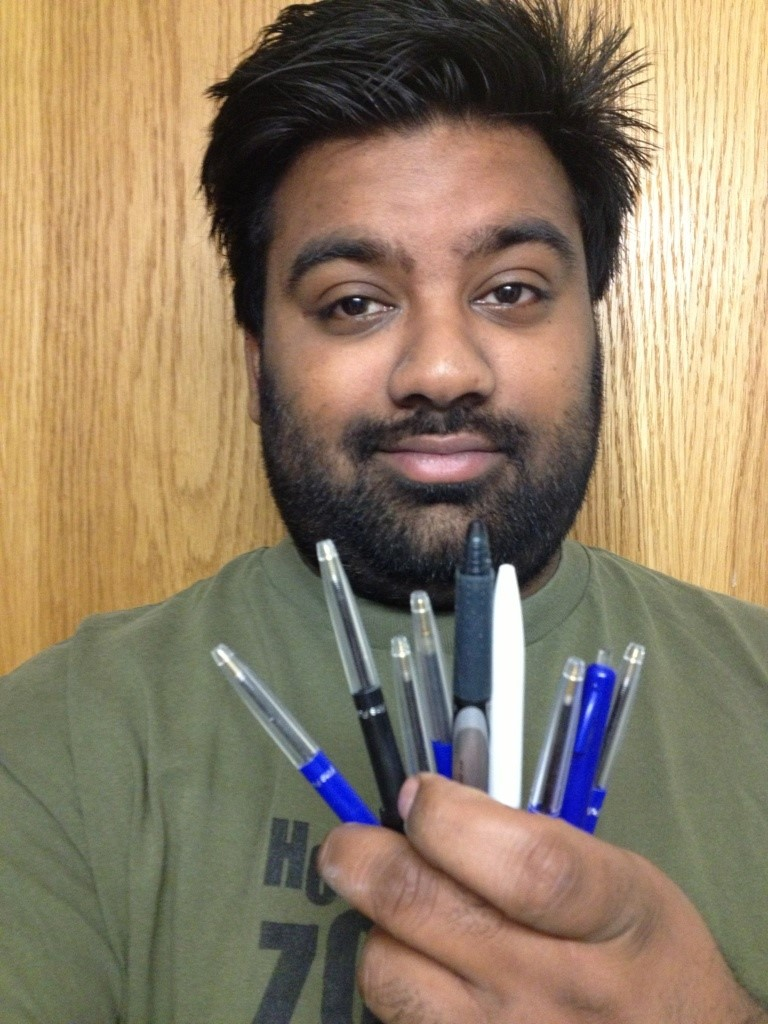face_no_mask: (201, 6, 627, 599)
